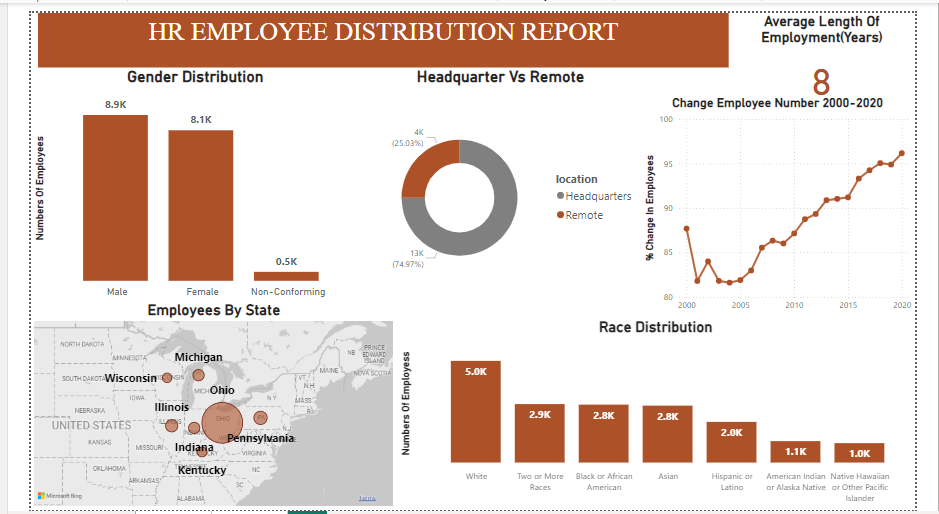

The page's visual inventory and layout, read from the dashboard file:
{"tool":"powerbi","page":{"name":"Page 1","canvas":[1280,720],"ordinal":0},"visuals":[{"type":"textbox","box":[10.1,0,1001.2,79],"z":0},{"type":"card","title":"Average Length Of Employment(Years)","fields":{"Values":["Sum(avg_length_employement.avg_length_employement)"]},"box":[1011.2,0,268.8,139.4],"z":1},{"type":"columnChart","title":"Gender Distribution","fields":{"Category":["gender.gender"],"Y":["Sum(gender.count)"]},"box":[0,79.2,476.6,338.4],"z":2},{"type":"donutChart","title":"Headquarter Vs Remote","fields":{"Y":["Sum(location.count)"],"Category":["location.location"]},"box":[476.6,79.2,407.5,349.9],"z":3},{"type":"lineChart","title":"Change Employee Number 2000-2020","fields":{"Category":["employee_change.year"],"Y":["Sum(employee_change.net_change_percent)"]},"box":[884.2,119.5,396,322.6],"z":4},{"type":"map","title":"Employees By State","fields":{"Size":["Sum(state.count)"],"Category":["state.location_state"]},"box":[0,417.6,529.9,302.4],"z":5},{"type":"clusteredColumnChart","title":"Race Distribution","fields":{"Category":["race.race"],"Y":["Sum(race.count)"]},"box":[529.9,442.1,750.2,276.5],"z":6}]}

Visuals, with their boxes in screenshot pixels (x1, y1, x2, y2), scaled from the page's 1280x720 canvas onto the 939x514 screenshot:
textbox: BBox(7, 0, 742, 56)
"Average Length Of Employment(Years)" card: BBox(742, 0, 938, 100)
"Gender Distribution" columnChart: BBox(0, 57, 350, 298)
"Headquarter Vs Remote" donutChart: BBox(350, 57, 649, 306)
"Change Employee Number 2000-2020" lineChart: BBox(649, 85, 938, 316)
"Employees By State" map: BBox(0, 298, 389, 513)
"Race Distribution" clusteredColumnChart: BBox(389, 316, 938, 513)
